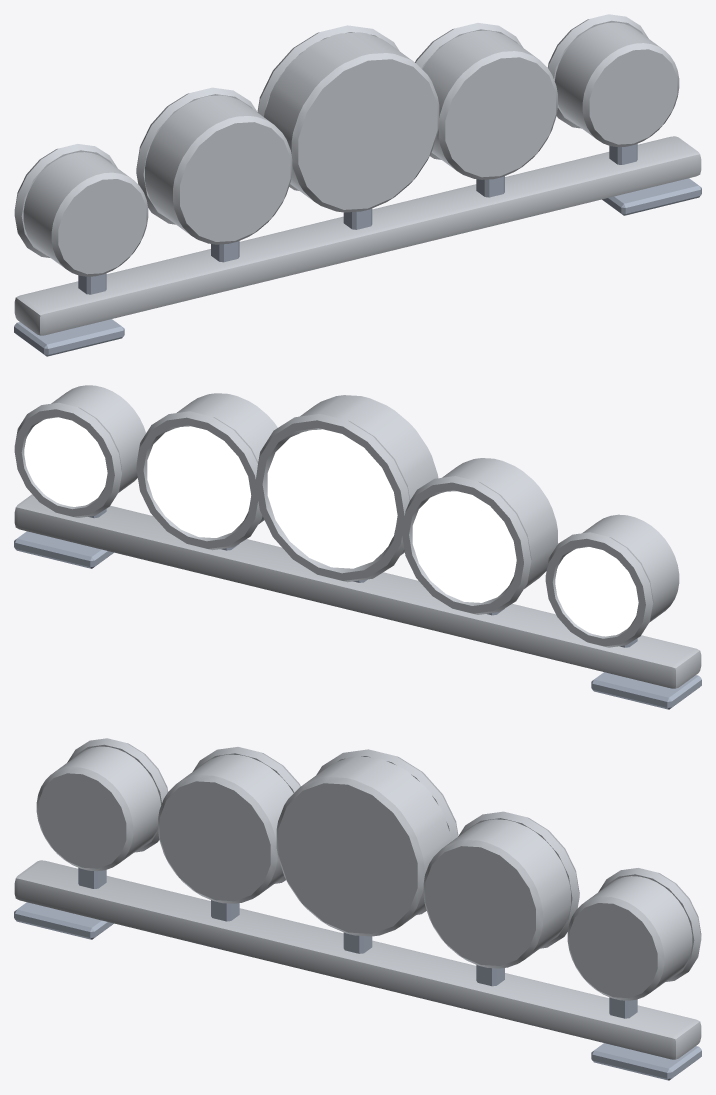
The model's file is roof_round_lamps_set.glb.
3 renders of one model, top to bottom at view 1: azimuth 30°, elevation 25°; view 2: azimuth 150°, elevation 25°; view 3: azimuth 330°, elevation 25°, orthographic.
Visible parts, largest first — view 1: chrome, steel; view 2: chrome, lamp_white, steel; view 3: chrome, steel.
Boxes of the visible parts, x1,y1,x2,y2 form: chrome: [14, 14, 701, 335]; steel: [14, 144, 701, 356]; chrome: [14, 385, 701, 688]; lamp_white: [24, 417, 638, 636]; steel: [14, 509, 701, 709]; chrome: [14, 738, 701, 1059]; steel: [14, 868, 701, 1080].
Size of the model in its own units: 2.3 by 0.7279 by 0.2667.
